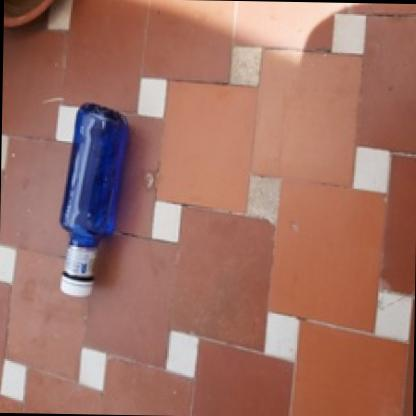plastic_bottles: (47, 95, 136, 306)
